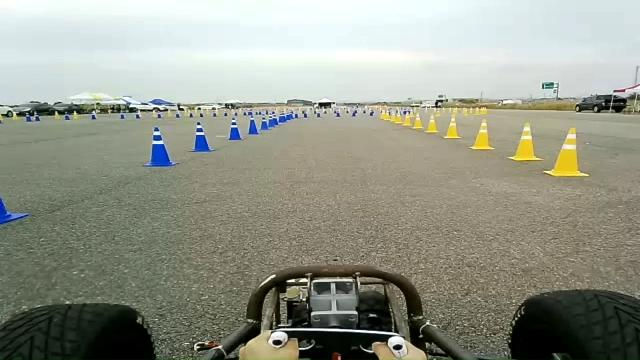blue cone: (142, 126, 179, 167), (188, 121, 214, 152), (226, 117, 243, 140), (247, 117, 261, 135)
yellow cone: (543, 126, 589, 176), (507, 122, 543, 161), (468, 118, 495, 150), (442, 115, 462, 139), (424, 114, 439, 133), (411, 113, 424, 129), (402, 115, 412, 126), (379, 112, 390, 120), (391, 112, 399, 122), (395, 114, 403, 123)
